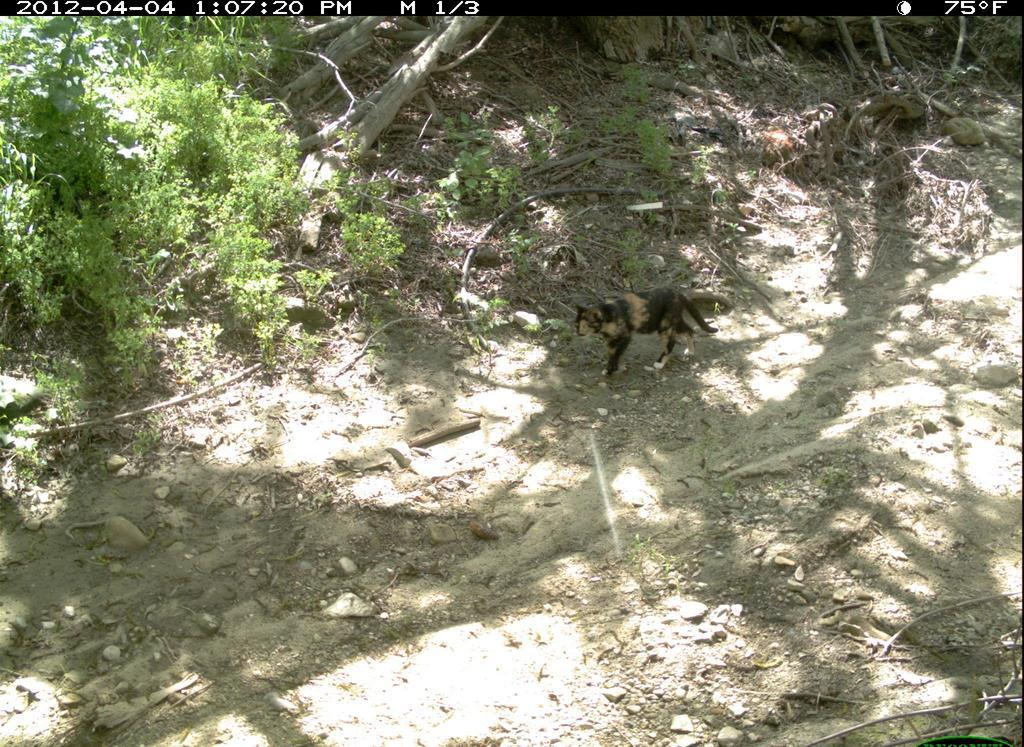cat: (565, 280, 729, 386)
